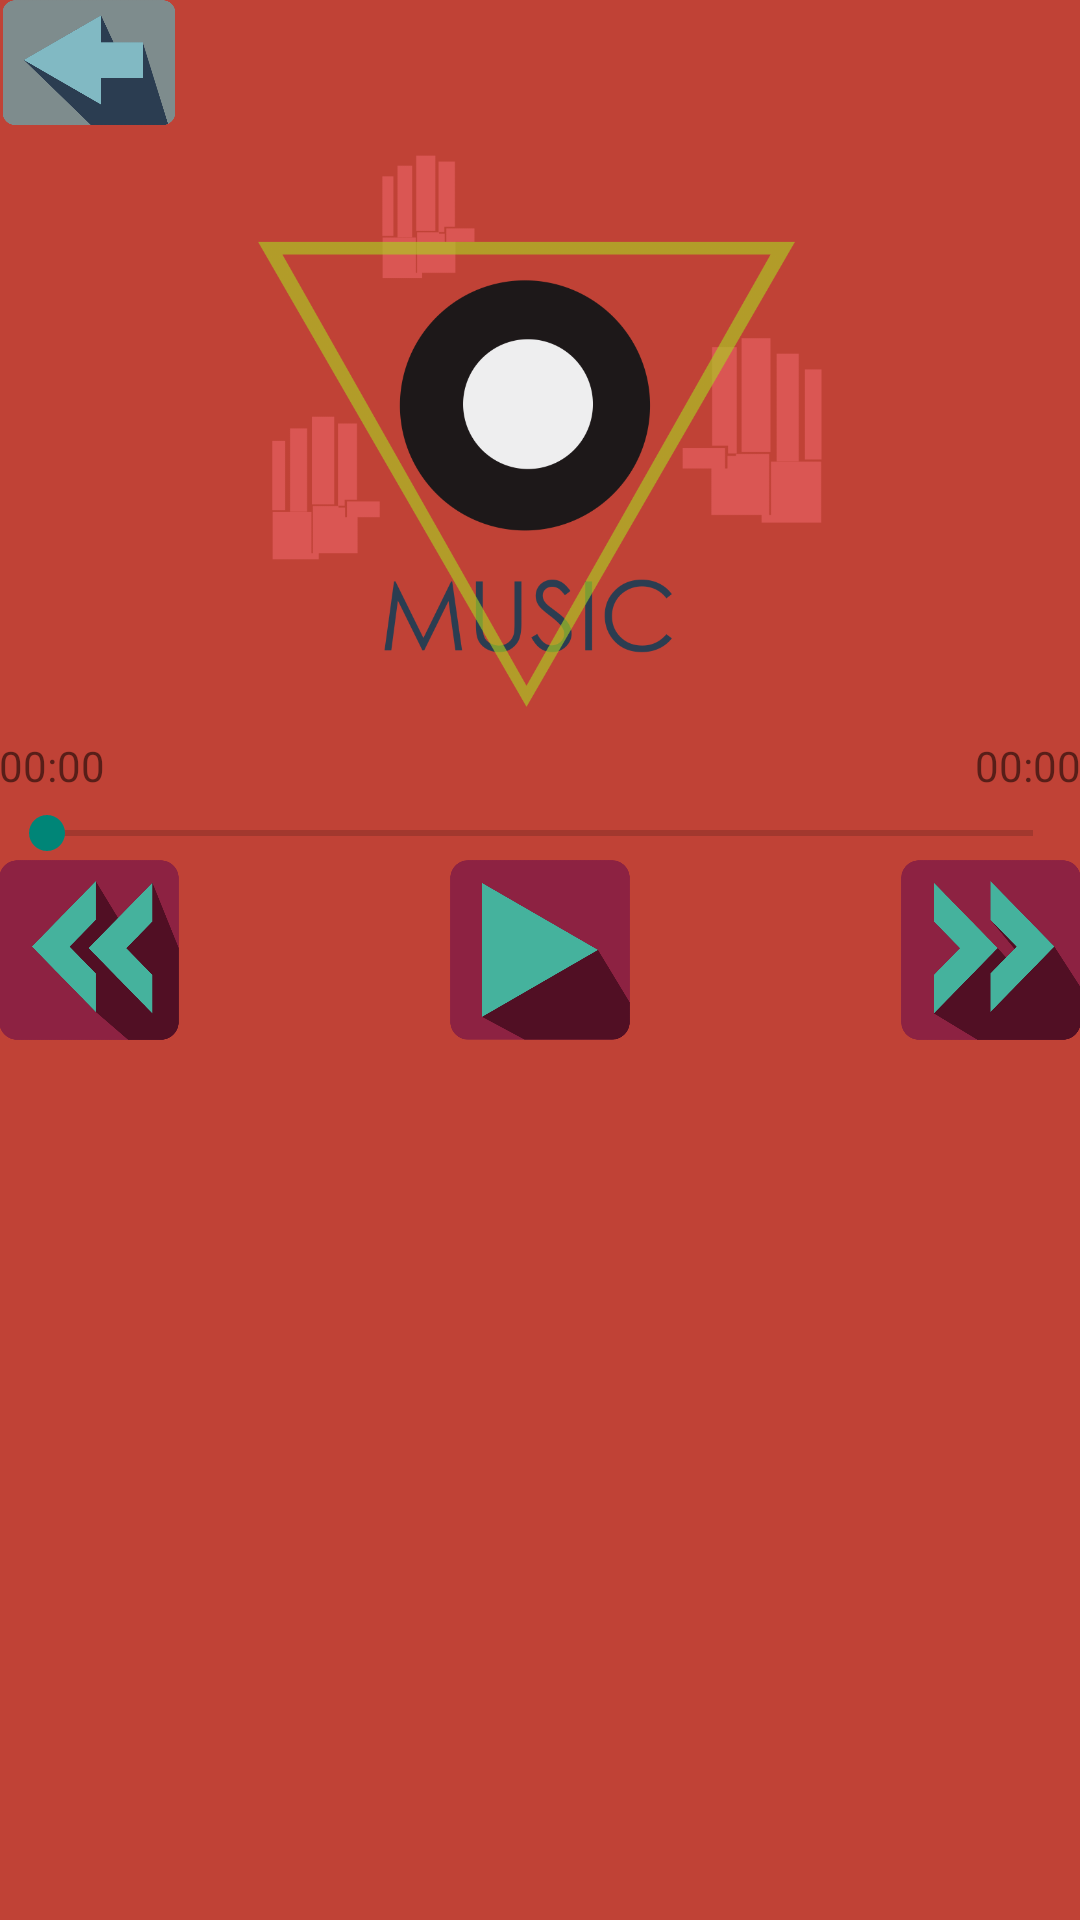

Where to tap for icons on this 1080px x 1920px app screen, as (x,y):
back: (89,62)
next: (990,950)
play: (540,950)
prev: (89,950)
